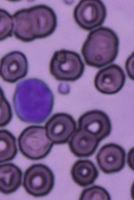L: (14, 78, 54, 125)
